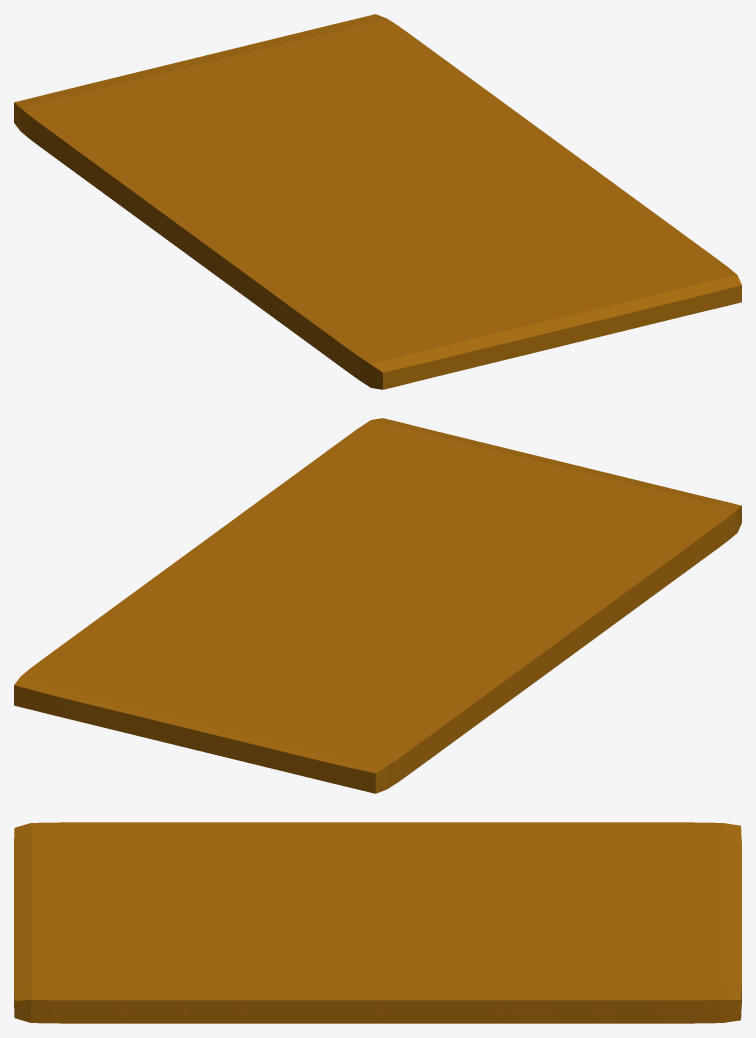
The model's file is drawer_plane_1.glb.
The picture shows the model from 3 angles, top to bottom: view 1: azimuth 30°, elevation 25°; view 2: azimuth 150°, elevation 25°; view 3: azimuth 270°, elevation 25°; orthographic projection.
Parts seen in each view (by area): view 1: Plane 3; view 2: Plane 3; view 3: Plane 3.
Part boxes in pixels (<box>): Plane 3: <box>14,14,741,389</box>; Plane 3: <box>14,418,741,793</box>; Plane 3: <box>14,822,741,1023</box>.
Size of the model in its own units: 13.35 by 0.8112 by 23.09.
